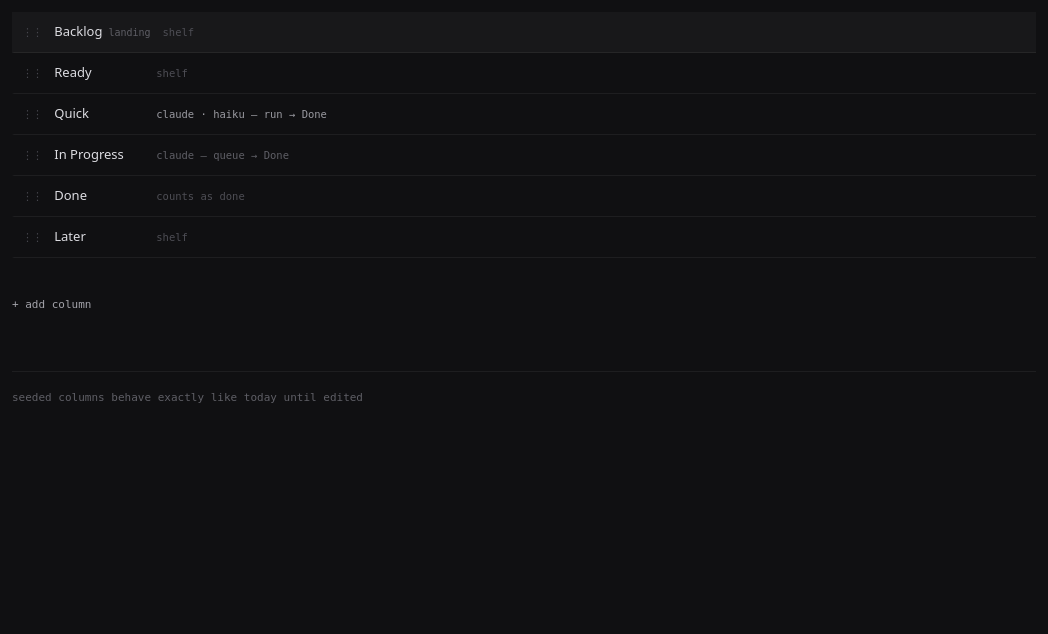
Scenario: field patches › renders [] as none and never patches an unchanged tools editor away
Expected: the text "Backlog" is shown, [54,22,102,40]
Step 1. Click the button with class "fc-col-row" that starts with "Quick" → (72, 113), box [14,94,1036,134]
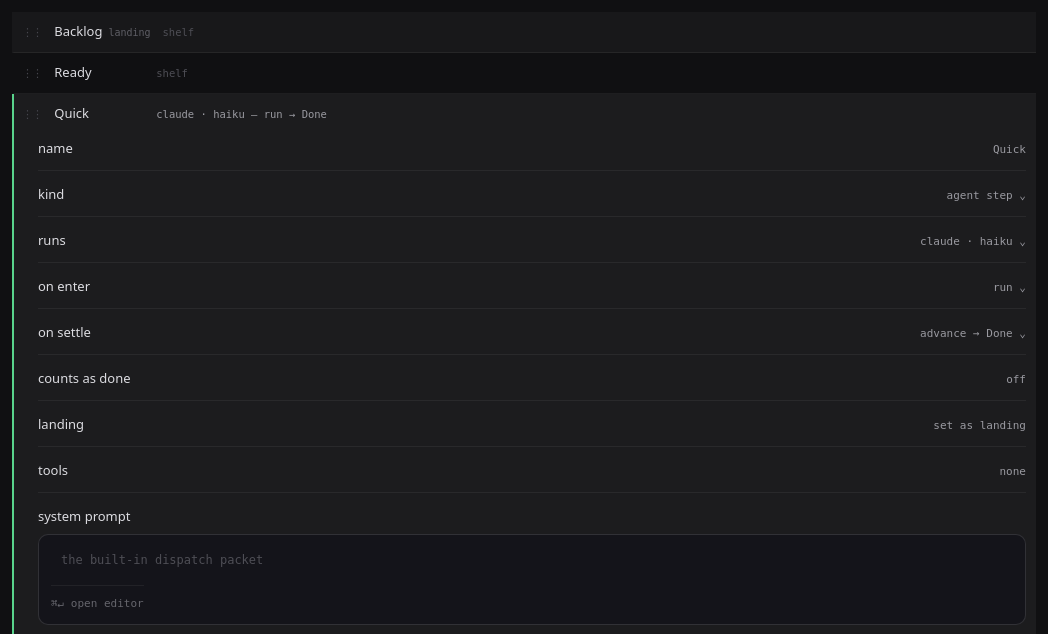
Now the text with class "fc-set-value" reads "none", box [1000,465,1026,478]
Step 2. Click the button "tools none" → (53, 470), box [38,460,1026,493]
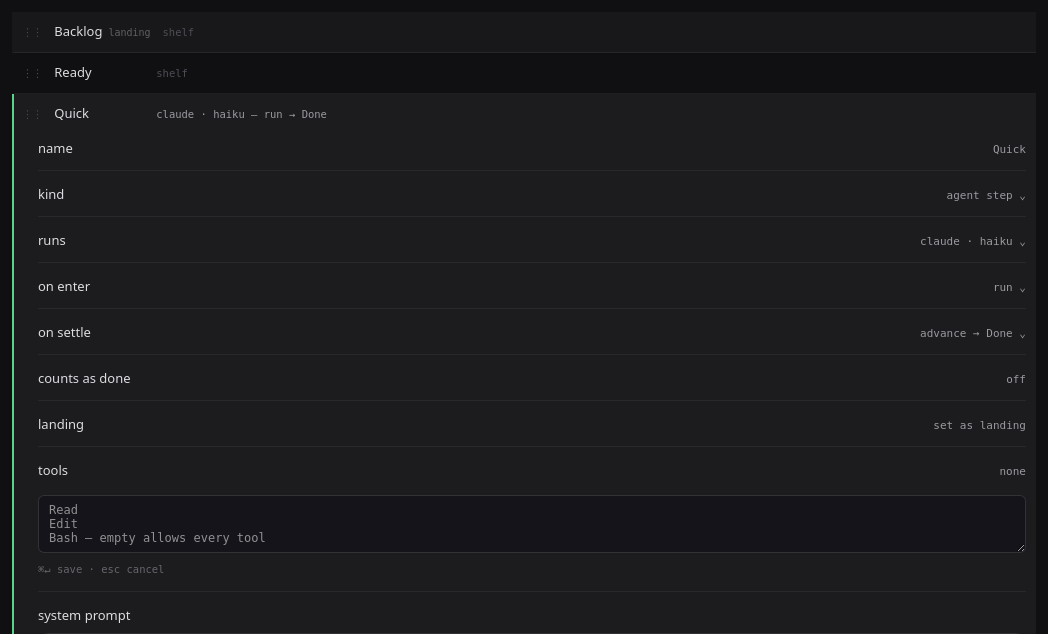
Step 3. Leave the text box with placeholder "Read Edit Bash — empty allows every tool", box [38,495,1026,553]
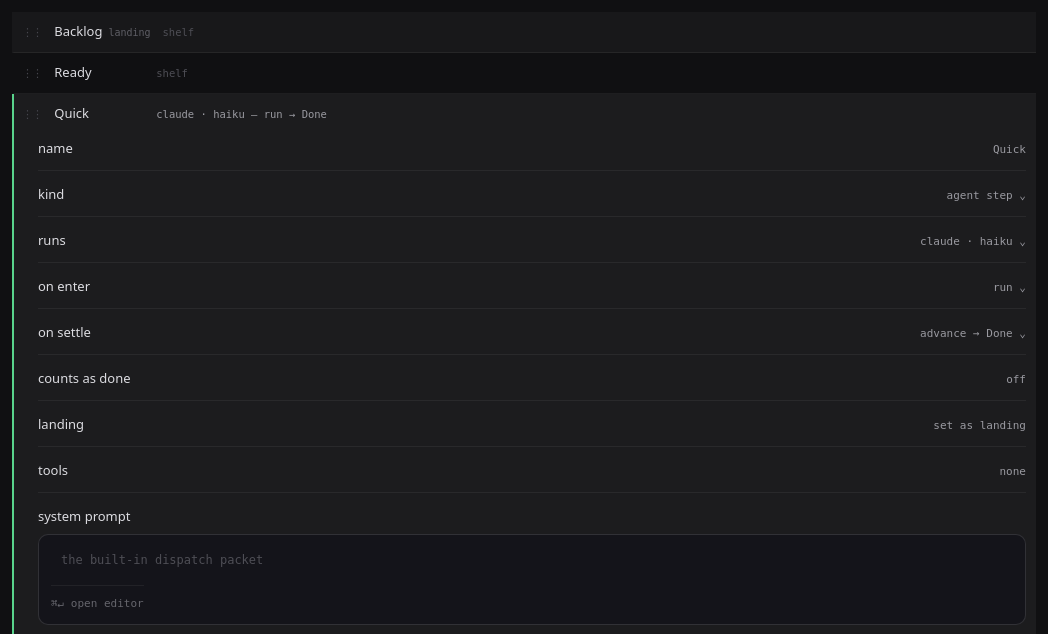
Now the text box is gone
